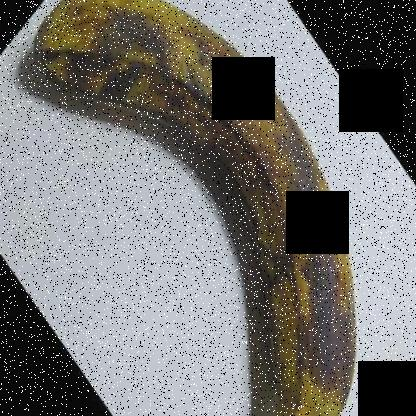rotten: (26, 1, 364, 416)
